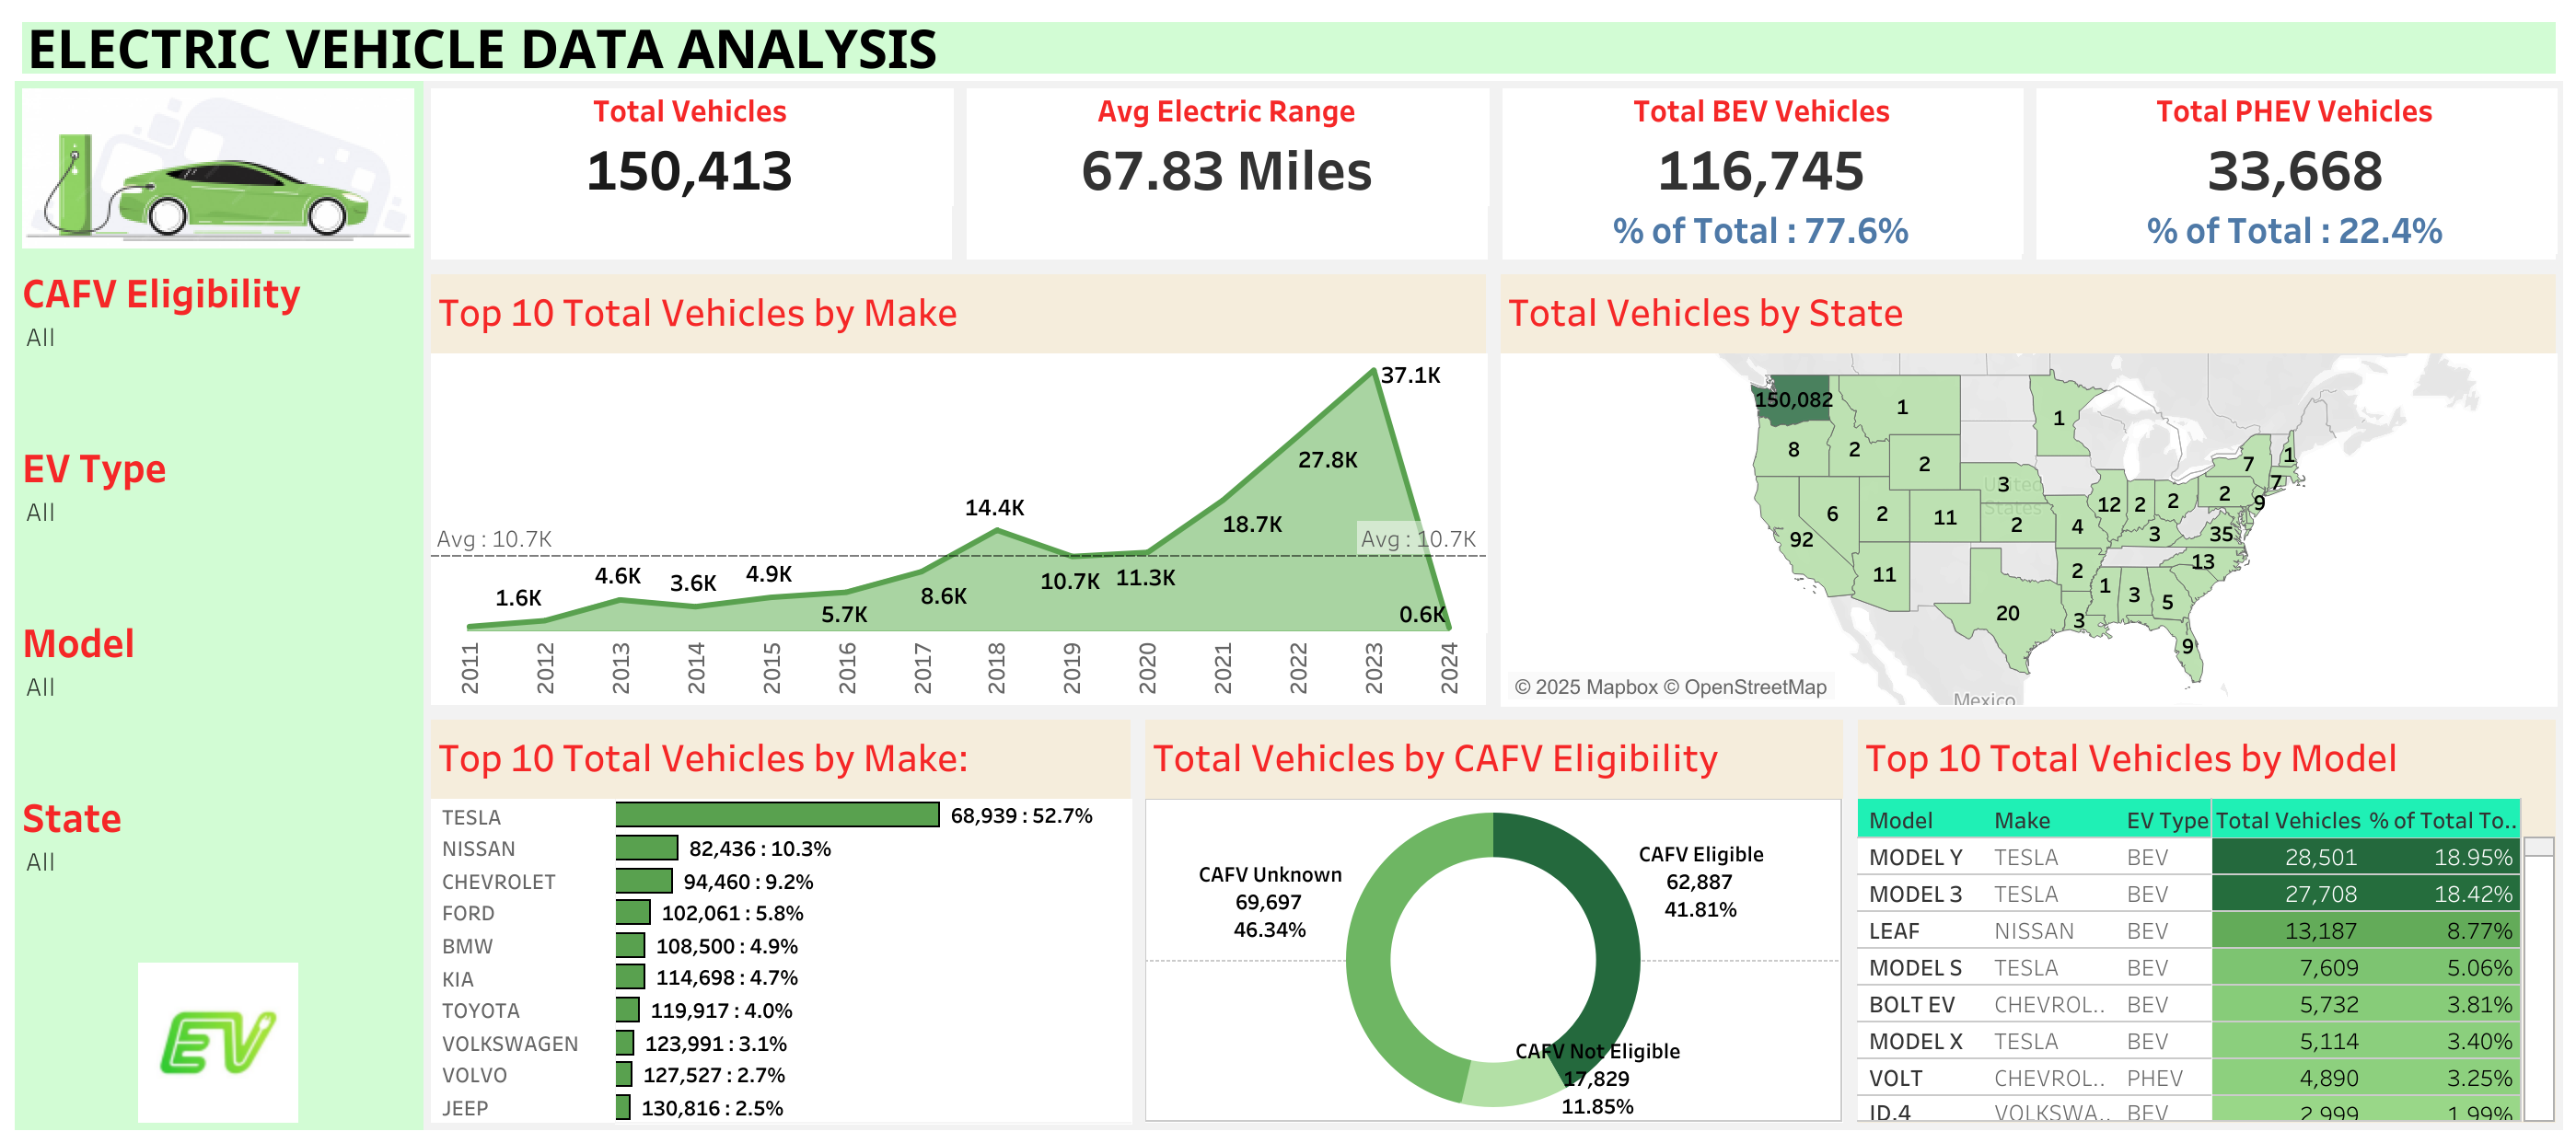

This screenshot's page, from the dashboard's own definition file:
{"tool":"tableau","page":{"name":"Electric Vehicle Data Analysis","canvas":[1000,1000],"units":"permille","ordinal":0},"visuals":[{"type":"title","box":[5.7,12.9,988.6,57.8]},{"type":"image","param":"Image/Screenshot 2025-08-20 at 11.42.43 AM.png","box":[5.7,70.7,158.6,152.7]},{"type":"worksheet","title":"Total Vehicles","mark":"Automatic","box":[164.3,70.7,207.8,162.4]},{"type":"worksheet","title":"Avg Electric Range","mark":"Automatic","box":[372.1,70.7,207.9,162.4]},{"type":"worksheet","title":"Total BEV Vehicles","mark":"Automatic","box":[580,70.7,207.1,162.4]},{"type":"worksheet","title":"Total PHEV Vehicles","mark":"Automatic","box":[787.1,70.7,207.2,162.4]},{"type":"filter","title":"Total Vehicles by Model Year","param":"[federated.08ql1qa0xtur991gm3ssg025pj7s].[none:Clean Alternative Fuel Vehicle (C","box":[5.7,223.5,158.6,152.7]},{"type":"worksheet","title":"Total Vehicles by Model Year","mark":"Area","rows":["Calculation_937804304316649472","Calculation_937804304316649472"],"cols":["Model Year"],"box":[164.3,233.1,415,389.1]},{"type":"worksheet","title":"Total Vehicles by State","mark":"Multipolygon","box":[579.3,233.1,415,389.1]},{"type":"filter","title":"Total Vehicles by Model Year","param":"[federated.08ql1qa0xtur991gm3ssg025pj7s].[none:Electric Vehicle Type:nk]","box":[5.7,376.2,158.6,152.7]},{"type":"filter","title":"Total Vehicles by Model Year","param":"[federated.08ql1qa0xtur991gm3ssg025pj7s].[none:Model:nk]","box":[5.7,528.9,158.6,152.7]},{"type":"worksheet","title":"Top 10 Total Vehicles by Make","mark":"Automatic","rows":["Make"],"cols":["Calculation_937804304316649472"],"box":[164.3,622.2,277.1,364.9]},{"type":"worksheet","title":"Total Vehicles by CAFV Eligibility","mark":"Pie","rows":["Calculation_937804304326307847","Calculation_937804304326307847"],"box":[441.4,622.2,276.4,364.9]},{"type":"worksheet","title":"Top 10 Total Vehicles by Model","mark":"Square","rows":["Model","Make","Electric Vehicle Type"],"box":[717.9,622.2,276.4,364.9]},{"type":"filter","title":"Total Vehicles by Model Year","param":"[federated.08ql1qa0xtur991gm3ssg025pj7s].[none:State:nk]","box":[5.7,681.7,158.6,152.7]},{"type":"image","param":"Image/EV.jpg","box":[5.7,834.4,158.6,152.7]}]}

Visuals, with their boxes on the dashboard's canvas, which has no fixed pixel size, in thousandths of its width and height (x1, y1, x2, y2). These are canvas units, not pixel positions in the 2576x1143 screenshot, which may show the page scaled, cropped or inside an application window:
title: {"left": 6, "top": 13, "right": 994, "bottom": 71}
image: {"left": 6, "top": 71, "right": 164, "bottom": 223}
"Total Vehicles" worksheet: {"left": 164, "top": 71, "right": 372, "bottom": 233}
"Avg Electric Range" worksheet: {"left": 372, "top": 71, "right": 580, "bottom": 233}
"Total BEV Vehicles" worksheet: {"left": 580, "top": 71, "right": 787, "bottom": 233}
"Total PHEV Vehicles" worksheet: {"left": 787, "top": 71, "right": 994, "bottom": 233}
"Total Vehicles by Model Year" filter: {"left": 6, "top": 224, "right": 164, "bottom": 376}
"Total Vehicles by Model Year" worksheet (Area marks): {"left": 164, "top": 233, "right": 579, "bottom": 622}
"Total Vehicles by State" worksheet (Multipolygon marks): {"left": 579, "top": 233, "right": 994, "bottom": 622}
"Total Vehicles by Model Year" filter: {"left": 6, "top": 376, "right": 164, "bottom": 529}
"Total Vehicles by Model Year" filter: {"left": 6, "top": 529, "right": 164, "bottom": 682}
"Top 10 Total Vehicles by Make" worksheet: {"left": 164, "top": 622, "right": 441, "bottom": 987}
"Total Vehicles by CAFV Eligibility" worksheet (Pie marks): {"left": 441, "top": 622, "right": 718, "bottom": 987}
"Top 10 Total Vehicles by Model" worksheet (Square marks): {"left": 718, "top": 622, "right": 994, "bottom": 987}
"Total Vehicles by Model Year" filter: {"left": 6, "top": 682, "right": 164, "bottom": 834}
image: {"left": 6, "top": 834, "right": 164, "bottom": 987}
